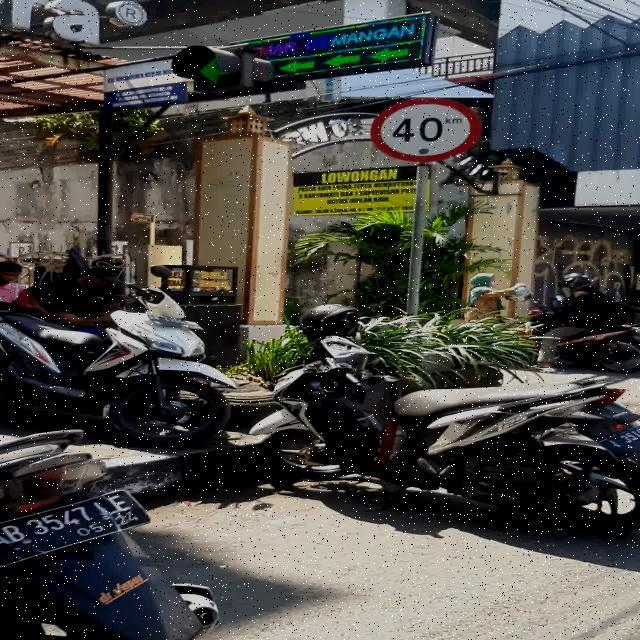Kecepatan Maks. 40 km: (371, 98, 482, 162)
